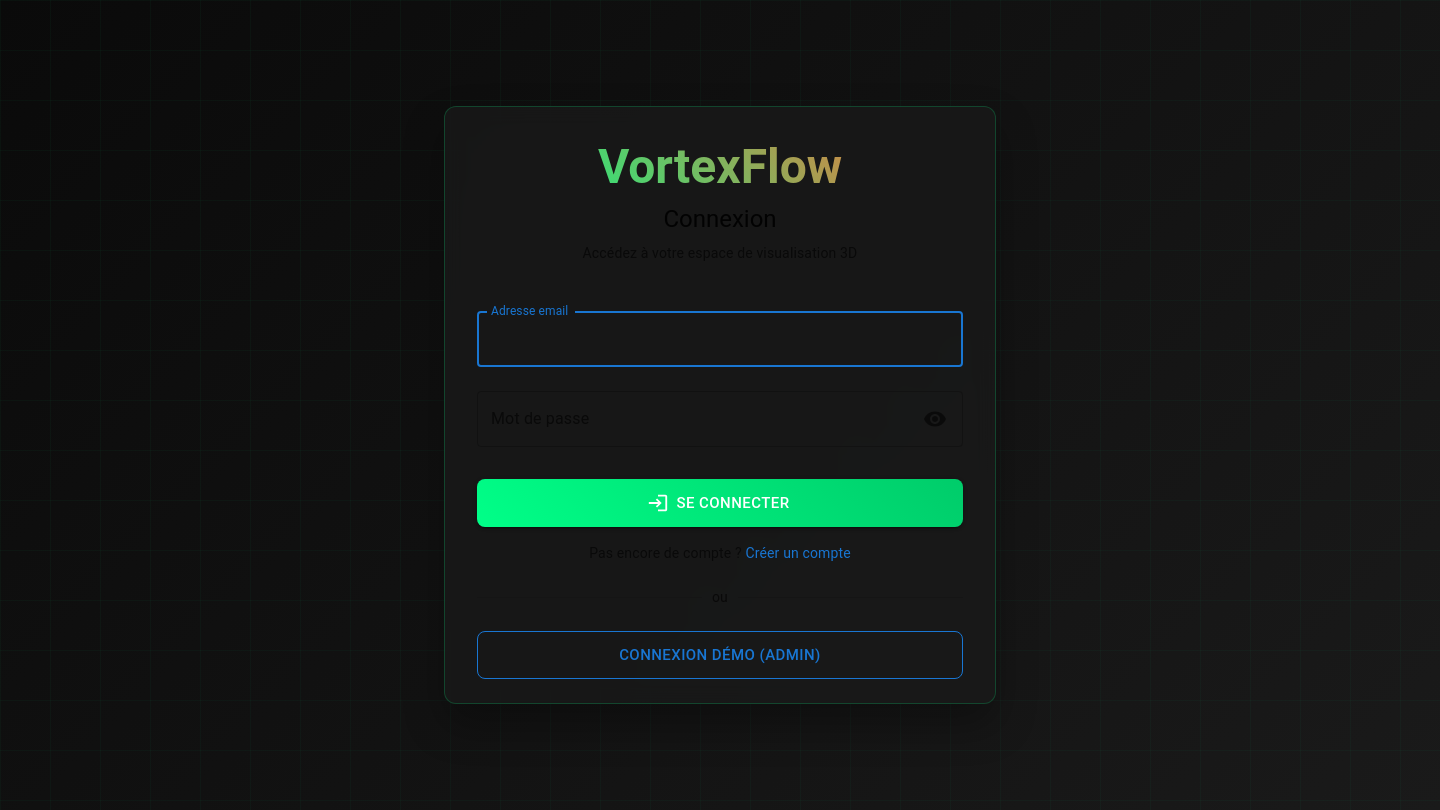
Test: LoginPage — validation › shows email validation errors on empty submit
Click the button "Se connecter" at {"x": 720, "y": 503}, box left=477, top=479, right=963, bottom=527
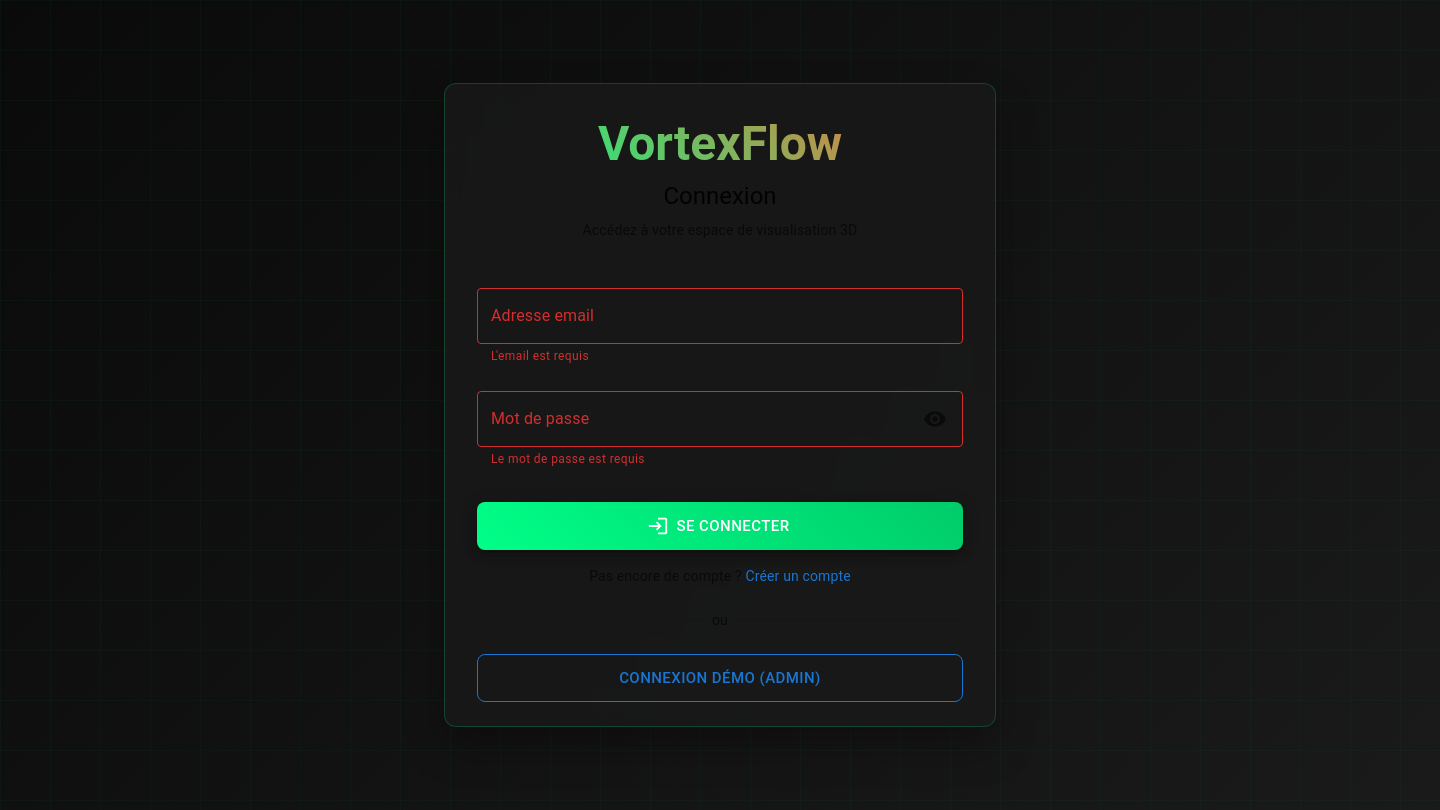
Now the text "L'email est requis" is shown, box left=491, top=349, right=589, bottom=363
